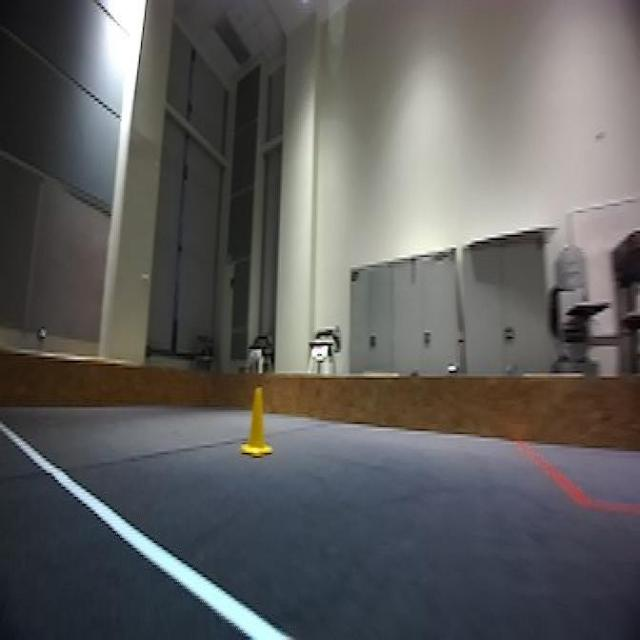frc_cone: (241, 383, 275, 461)
